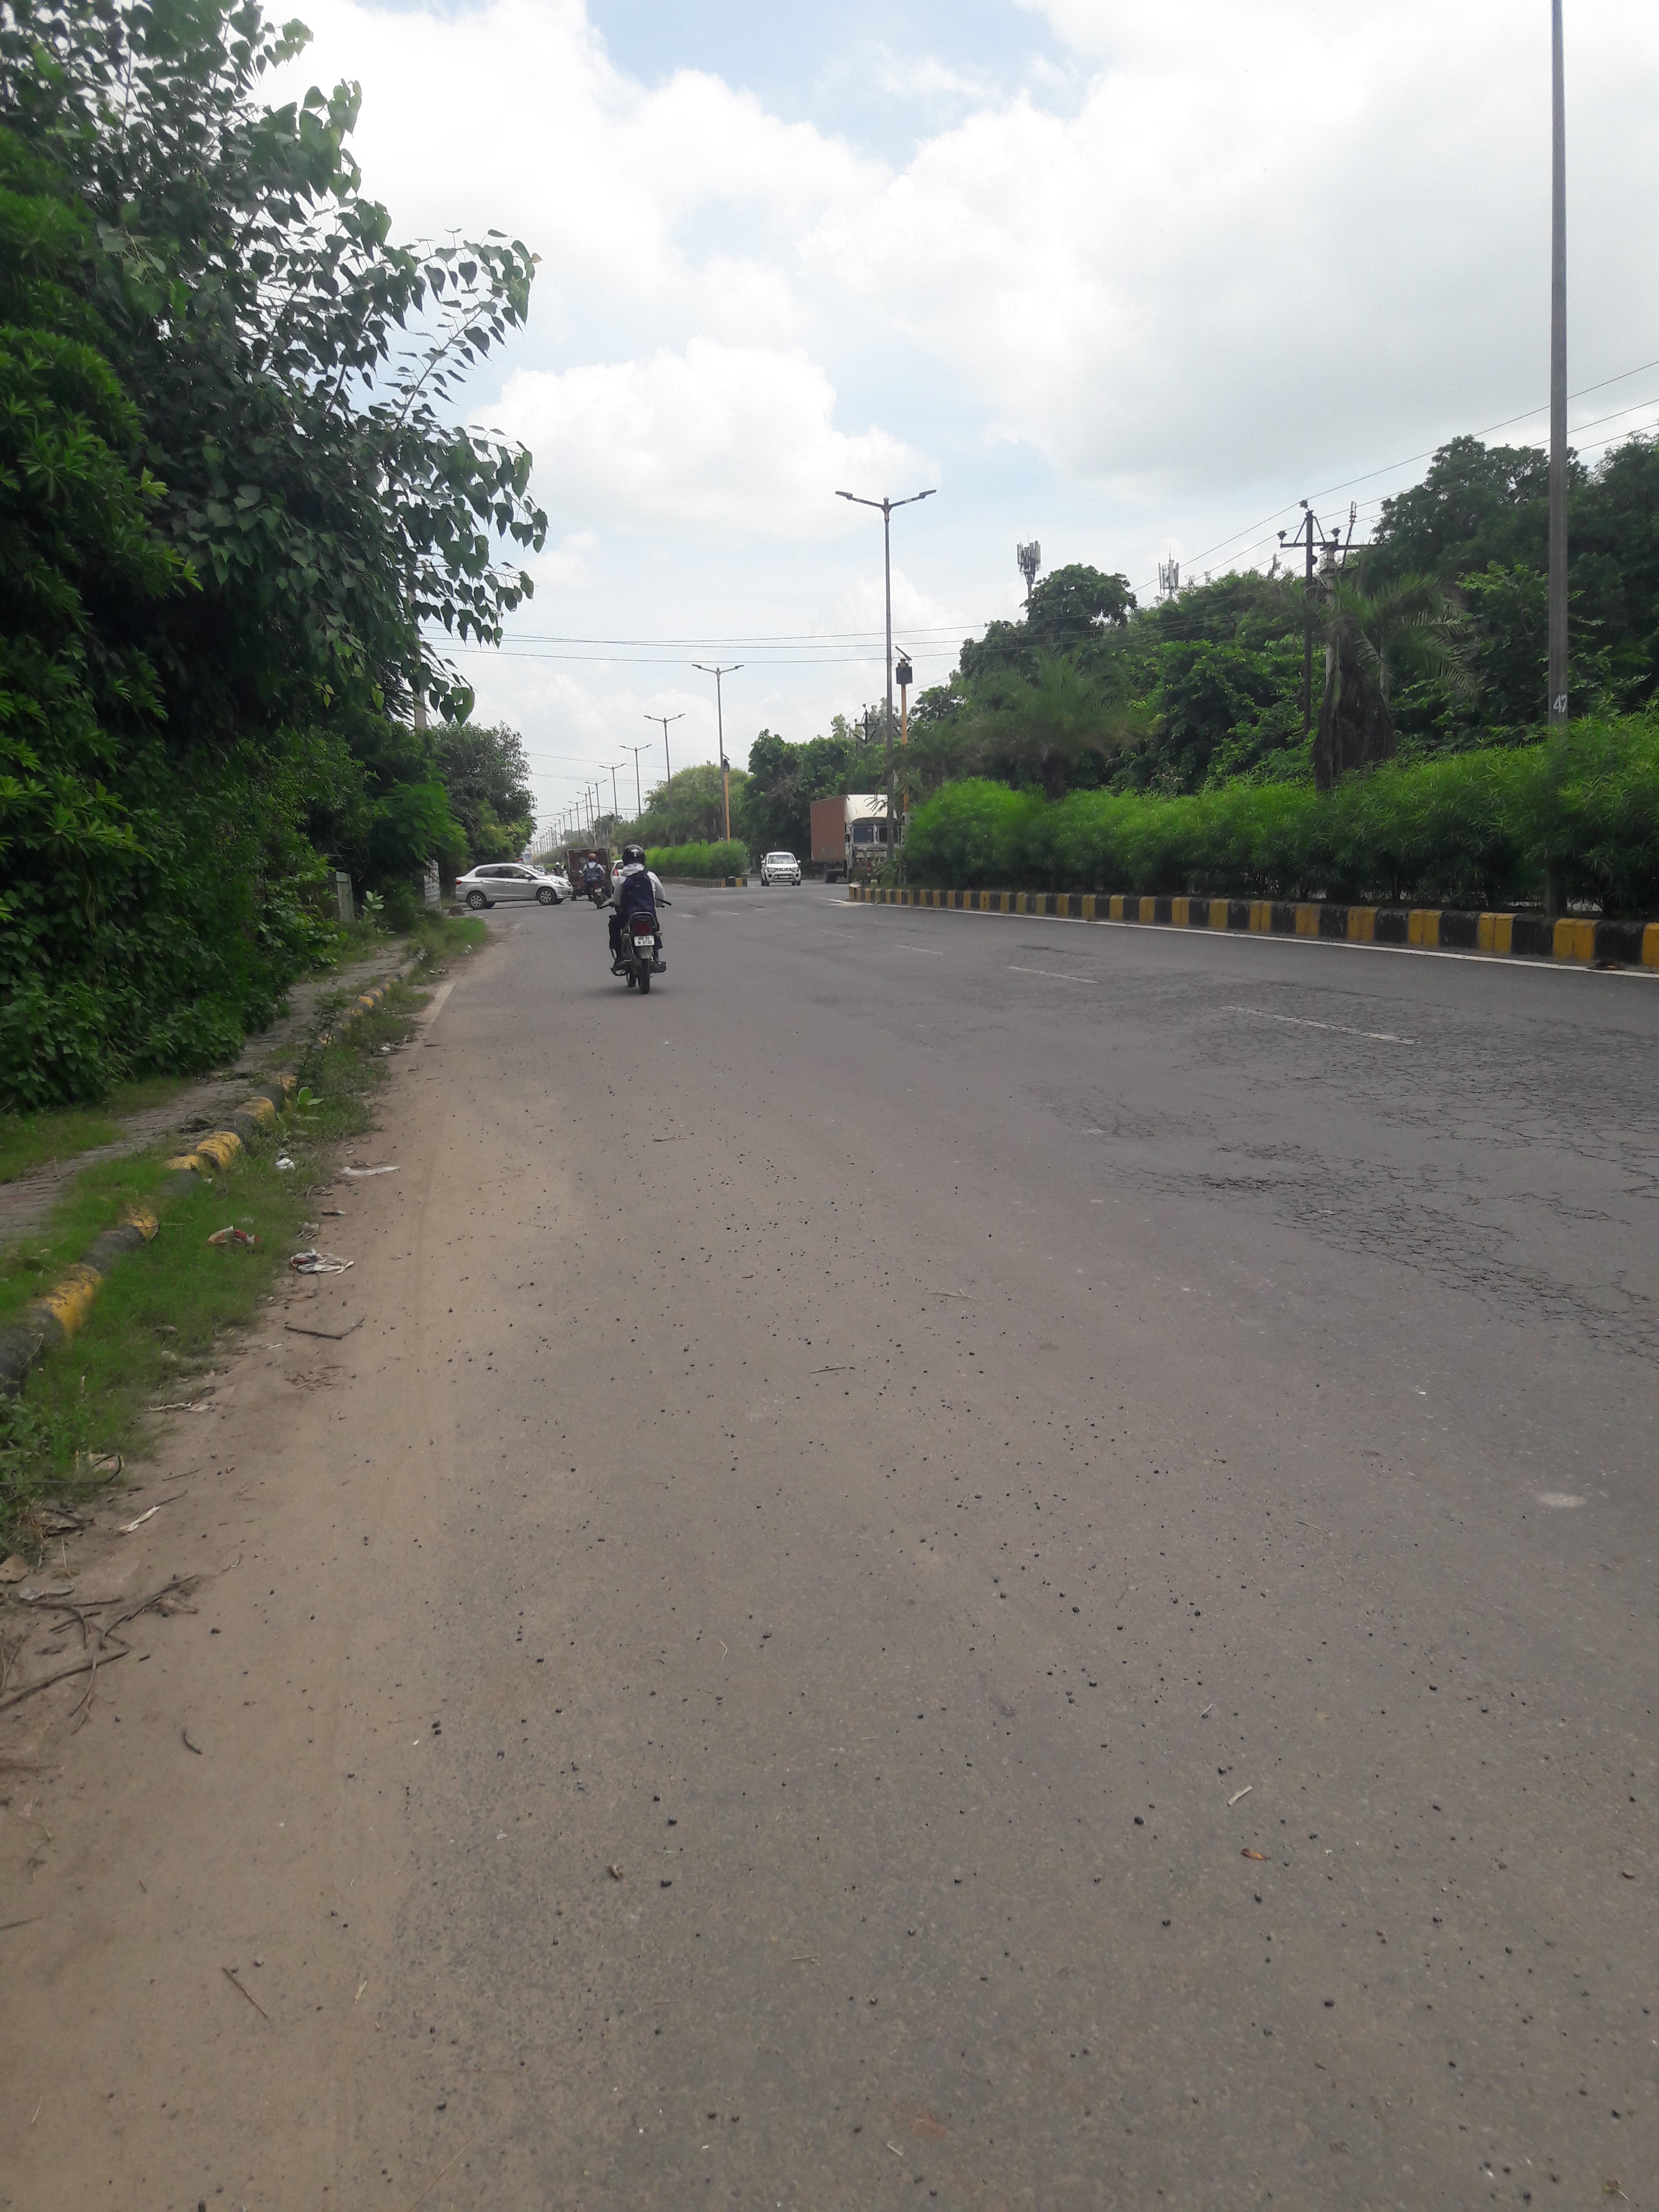traffic_sign: (896, 658, 913, 685)
